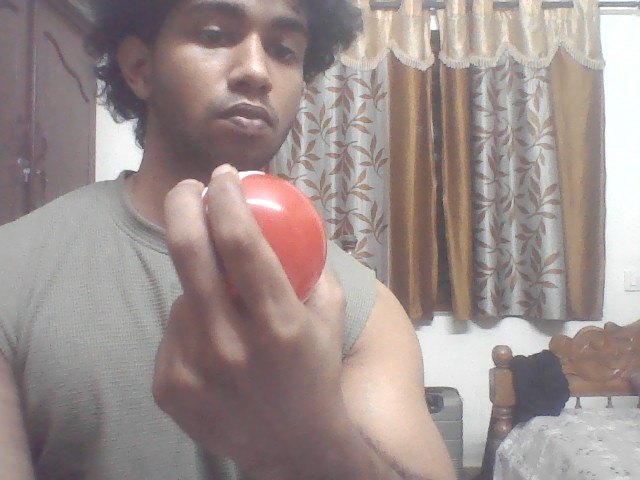cricket_ball: (206, 171, 329, 307)
